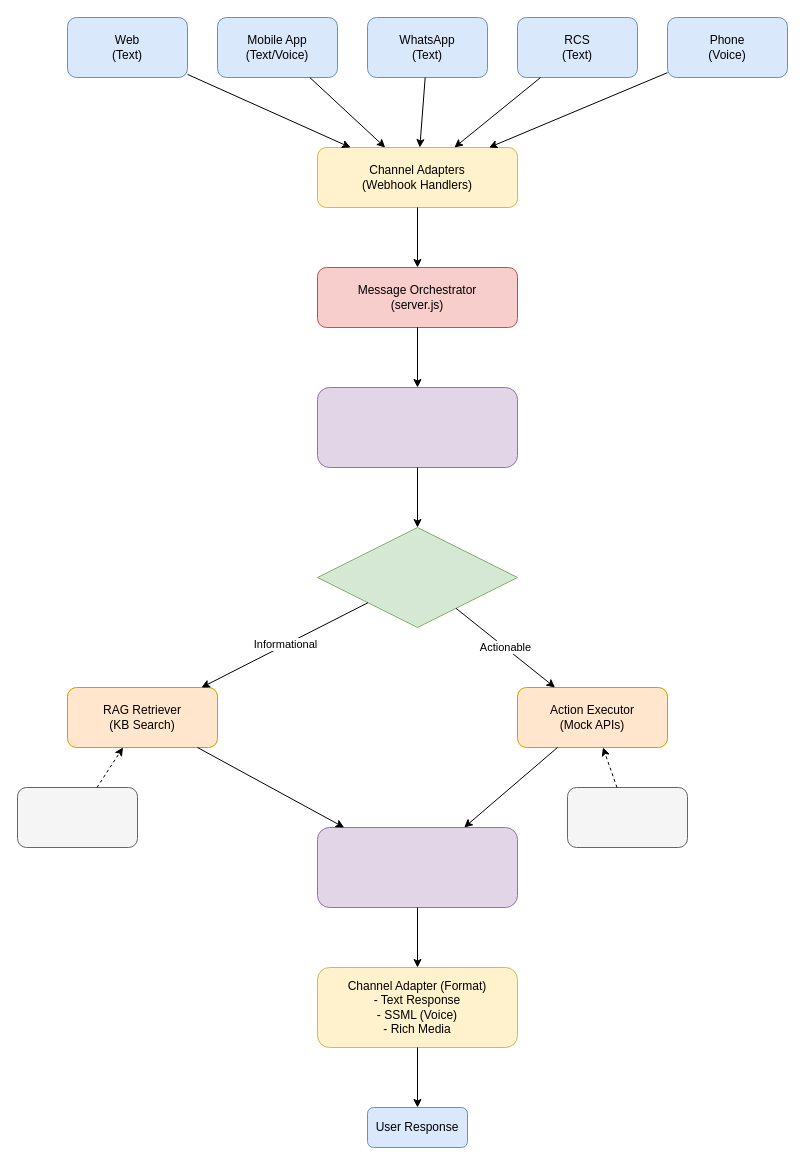
Some shapes in this 805 by 1165 pixel diagram are drawn without their labels. Each missing label, with the box of its shape:
Decision Point (Informational vs Action): (316, 526, 518, 628)
Knowledge Base (kb.json): (16, 786, 138, 848)
NLU Layer (Gemini) - Intent Detection - Slot Extraction - Confidence Scoring: (316, 386, 518, 468)
Response Generator (Gemini) - Context Assembly - Natural Language Gen: (316, 826, 518, 908)
User Data (users.json): (566, 786, 688, 848)
